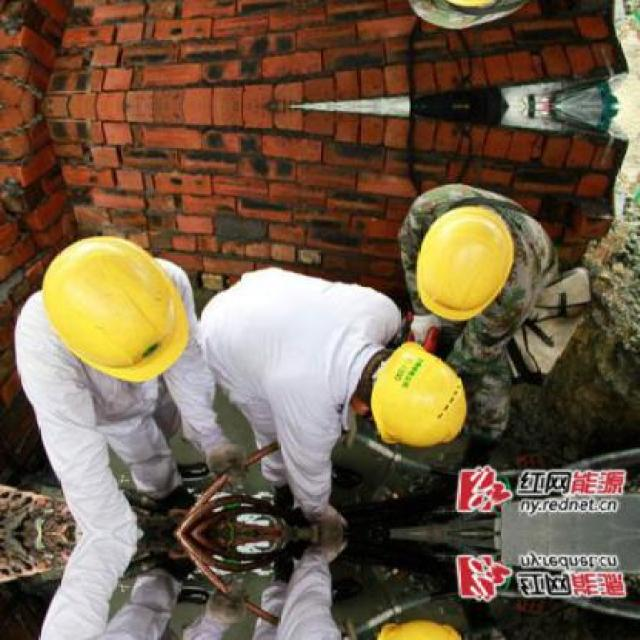helmet: (22, 227, 200, 386), (410, 195, 525, 334), (356, 339, 476, 458), (355, 608, 477, 637)
